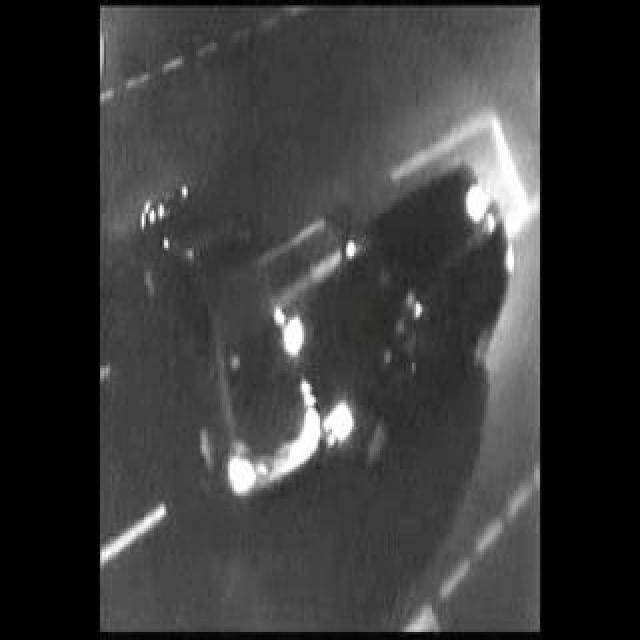car: (281, 164, 507, 464), (145, 192, 324, 510)
